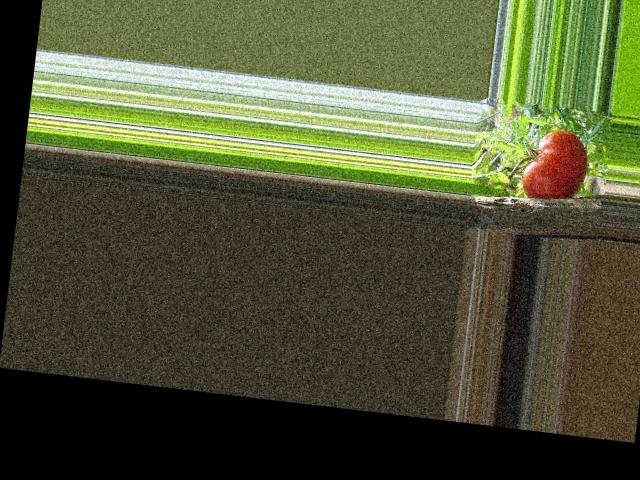tomato: (519, 125, 590, 204)
